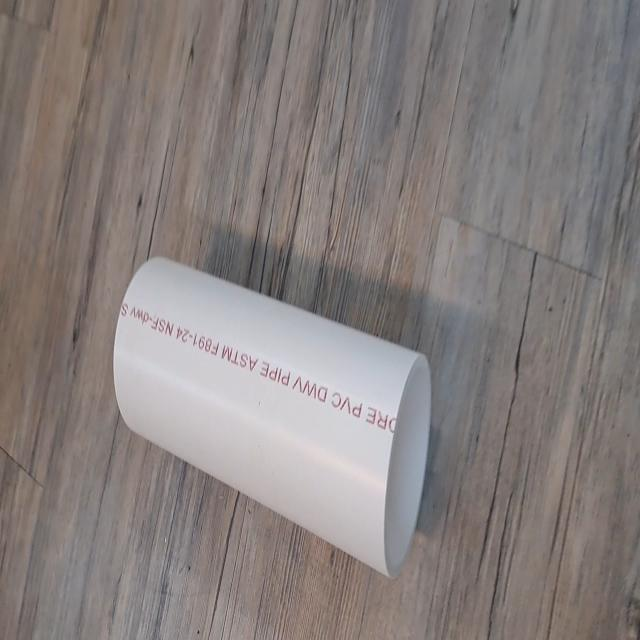CORAL: (110, 248, 438, 586)
